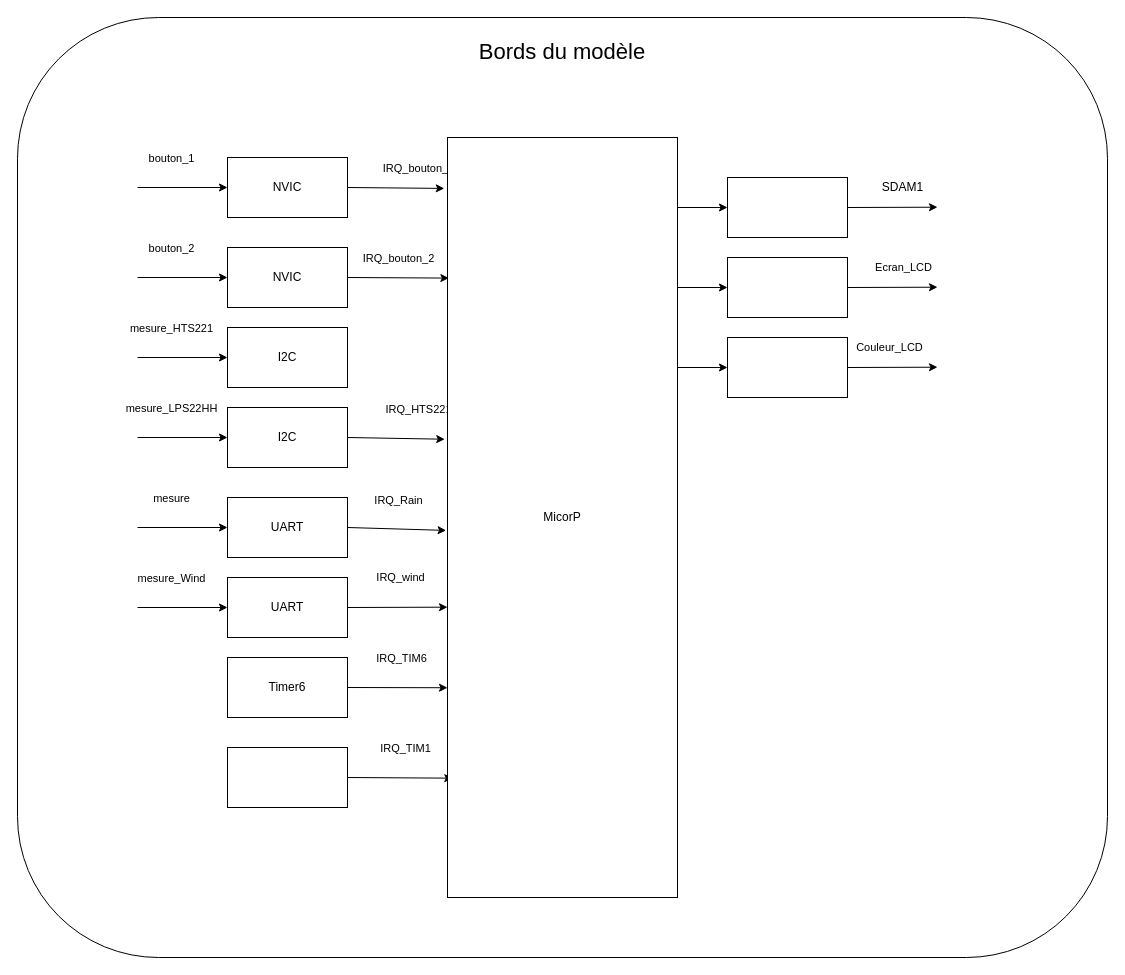
This 1125x975 diagram has some shape labels left out. The box of each missing label's shape, as (x1, y1, x2, y2) in pixels:
DMA2D: (726, 256, 848, 318)
FMC: (726, 176, 848, 238)
LTDC: (726, 336, 848, 398)
Timer1: (226, 746, 348, 808)
